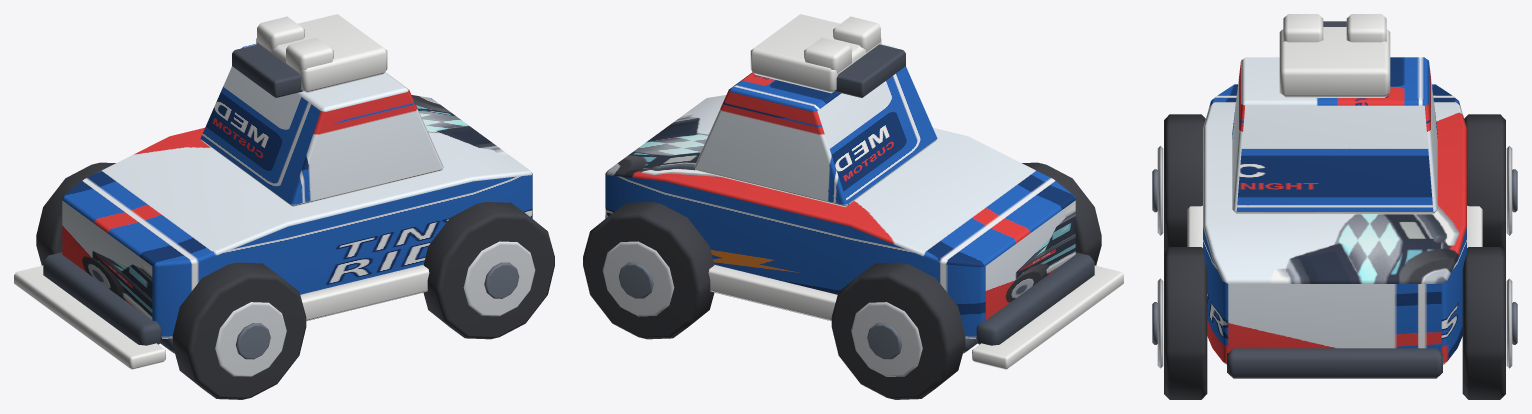
The picture shows the model from 3 angles, left to right: view 1: azimuth 30°, elevation 25°; view 2: azimuth 150°, elevation 25°; view 3: azimuth 270°, elevation 25°; orthographic projection. The views are drawn at different scales.
Visible parts, largest first — view 1: RC-02_connected_shell, RC-02_cabin, Tire, Tire.002, custom equipment, custom chin, front bumper, custom side guard, Rim.002, Rim, beacon mount, Tire.001 (+4 smaller); view 2: RC-02_connected_shell, RC-02_cabin, Tire.001, Tire.003, custom equipment, custom chin, front bumper, custom side guard.001, Rim.003, Rim.001, beacon mount, Tire (+4 smaller); view 3: RC-02_connected_shell, RC-02_cabin, custom equipment, rear bumper, Tire.002, Tire.003, Tire, Tire.001, beacon lens, beacon lens.001, custom side guard, custom side guard.001 (+4 smaller).
Boxes of the visible parts, bbox=[...] form: RC-02_connected_shell: bbox=[62, 95, 532, 338]; RC-02_cabin: bbox=[200, 44, 443, 206]; Tire: bbox=[172, 262, 306, 399]; Tire.002: bbox=[423, 202, 554, 339]; custom equipment: bbox=[256, 14, 387, 93]; custom chin: bbox=[14, 265, 165, 369]; front bumper: bbox=[43, 252, 161, 345]; custom side guard: bbox=[300, 264, 429, 320]; Rim.002: bbox=[463, 241, 535, 316]; Rim: bbox=[215, 302, 286, 376]; beacon mount: bbox=[232, 44, 303, 97]; Tire.001: bbox=[36, 162, 115, 265]; RC-02_connected_shell: bbox=[605, 95, 1075, 338]; RC-02_cabin: bbox=[694, 44, 937, 206]; Tire.001: bbox=[831, 262, 965, 399]; Tire.003: bbox=[583, 202, 714, 339]; custom equipment: bbox=[750, 14, 881, 93]; custom chin: bbox=[972, 265, 1123, 369]; front bumper: bbox=[976, 252, 1094, 345]; custom side guard.001: bbox=[708, 264, 837, 320]; Rim.003: bbox=[602, 241, 674, 316]; Rim.001: bbox=[851, 302, 922, 376]; beacon mount: bbox=[834, 44, 905, 97]; Tire: bbox=[1022, 162, 1101, 265]; RC-02_connected_shell: bbox=[1203, 84, 1466, 364]; RC-02_cabin: bbox=[1232, 57, 1437, 214]; custom equipment: bbox=[1279, 27, 1390, 97]; rear bumper: bbox=[1227, 348, 1442, 378]; Tire.002: bbox=[1164, 247, 1207, 399]; Tire.003: bbox=[1462, 247, 1505, 399]; Tire: bbox=[1164, 114, 1205, 252]; Tire.001: bbox=[1464, 114, 1505, 252]; beacon lens: bbox=[1283, 14, 1323, 42]; beacon lens.001: bbox=[1346, 14, 1386, 42]; custom side guard: bbox=[1187, 205, 1202, 247]; custom side guard.001: bbox=[1467, 205, 1482, 247].
Bounding box in the file's own units: 322 × 201 × 219.
